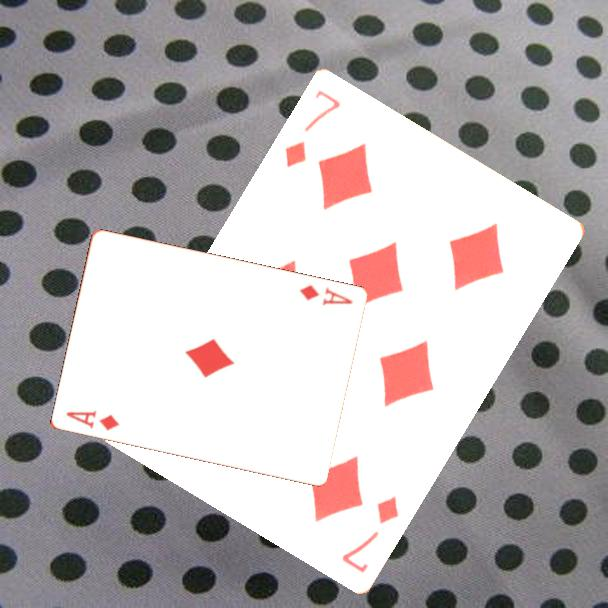d01: (295, 281, 355, 309), (62, 407, 122, 434)
d07: (338, 491, 402, 576), (281, 85, 343, 170)
